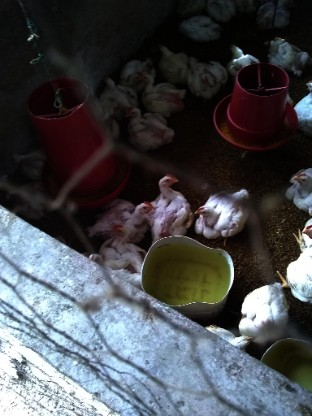Pollos: (236, 274, 291, 343), (86, 239, 154, 293), (193, 183, 250, 239), (80, 195, 147, 242), (153, 169, 193, 239), (281, 217, 312, 302), (199, 313, 249, 363), (0, 181, 54, 225), (263, 27, 309, 77), (121, 109, 173, 150), (92, 72, 139, 116), (184, 54, 228, 99), (151, 35, 188, 85), (221, 39, 258, 86), (144, 72, 183, 116), (253, 0, 298, 34), (114, 56, 157, 89), (289, 79, 312, 140), (285, 167, 312, 215), (12, 149, 50, 178), (180, 12, 218, 41), (202, 0, 238, 24)
